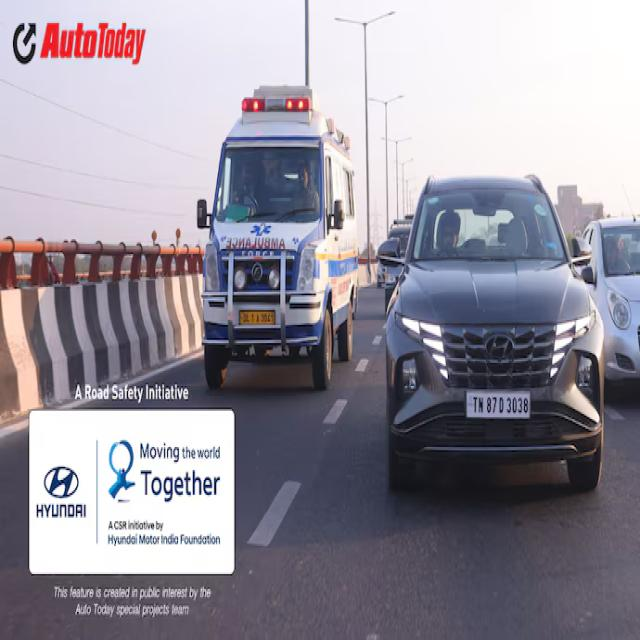emergency lights: (236, 90, 316, 134)
